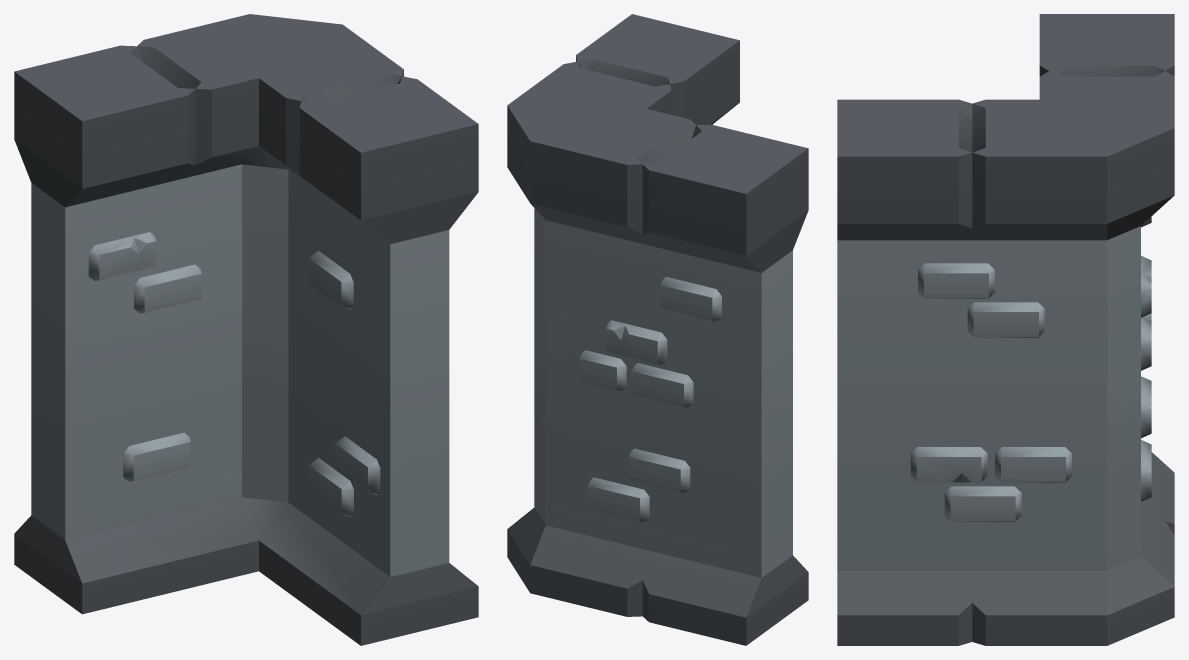
The model's file is wall_corner.glb.
3 views of the same model, side by side, from view 1: azimuth 30°, elevation 25°; view 2: azimuth 150°, elevation 25°; view 3: azimuth 270°, elevation 25° (orthographic). The views are drawn at different scales.
Visible parts, largest first — view 1: wall_corner; view 2: wall_corner; view 3: wall_corner.
Part boxes in pixels (x1,y1,x2,y2): wall_corner: [14, 14, 478, 645]; wall_corner: [507, 14, 808, 645]; wall_corner: [837, 14, 1174, 645].
Size of the model in its own units: 2.5 by 4 by 2.5.
1 material, 1 textured.
